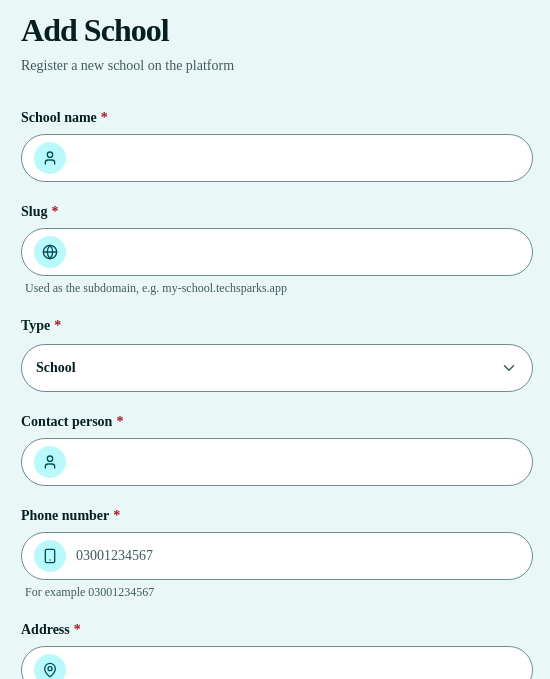
Scenario: CreateSchoolForm validation › refuses a phone number it cannot normalise
Type "12345" into the field labelled "Phone number*" at (298, 556), box 76,546 -> 520,566
(page scrolled)
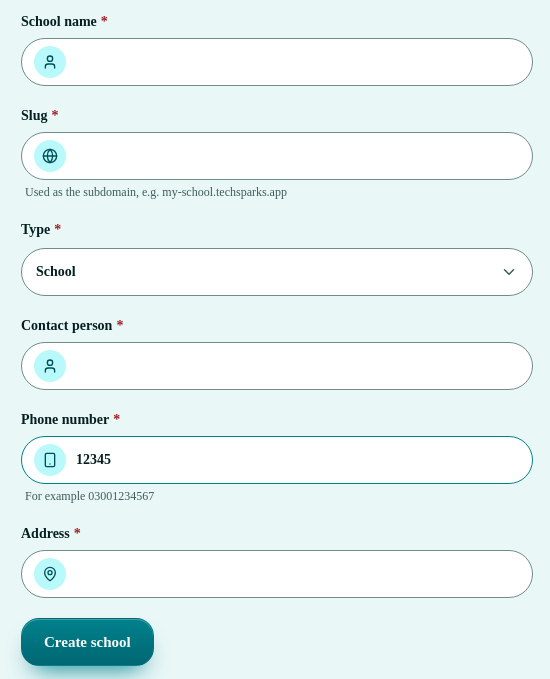
Click the button "Create school" at (87, 642), box 21,618 -> 154,666
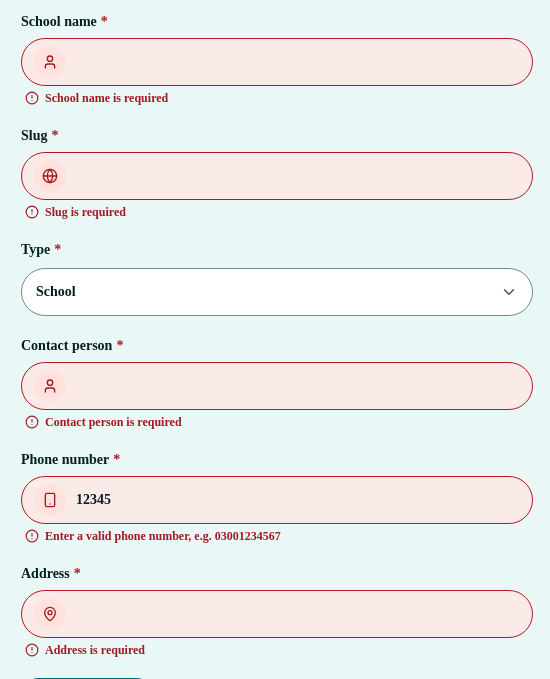
Check: the text "Enter a valid phone number, e.g. 03001234567" is shown, box 25,529 -> 281,543
